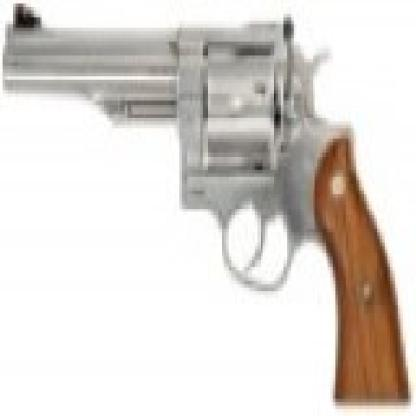handgun: (5, 7, 408, 406)
